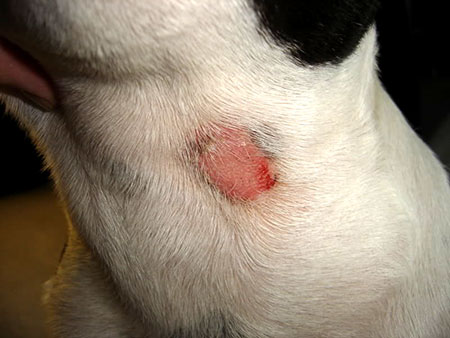ringworm: (193, 120, 286, 208)
